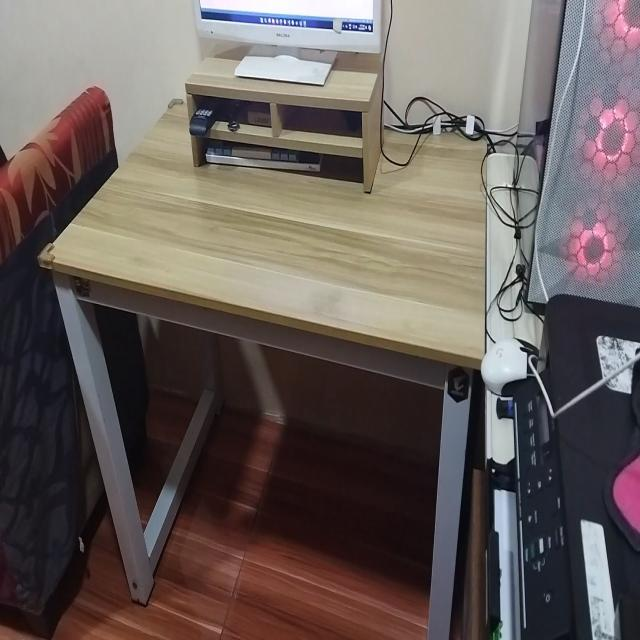table: (48, 87, 491, 640)
